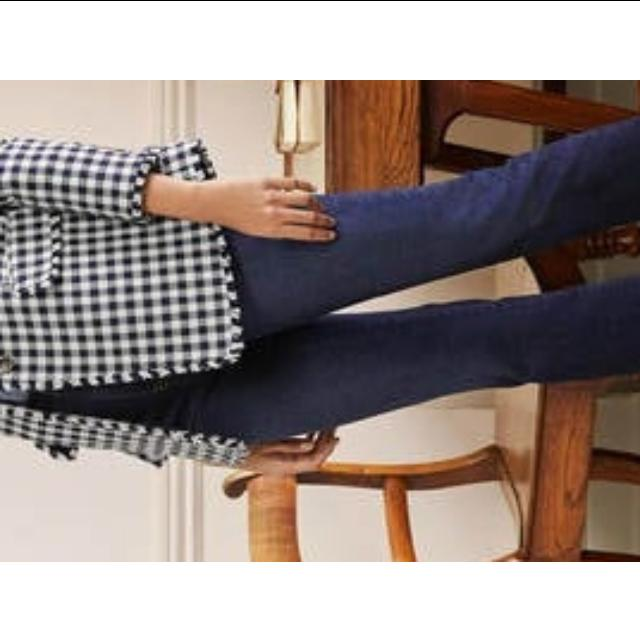cotton: (0, 160, 202, 454)
